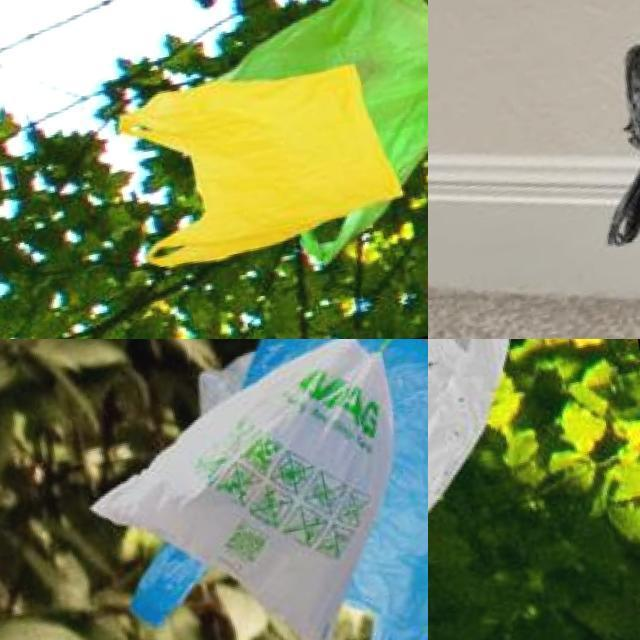waste: (72, 339, 428, 640), (76, 339, 428, 640), (111, 48, 416, 284), (232, 0, 428, 269), (568, 0, 640, 329), (428, 339, 540, 538)
